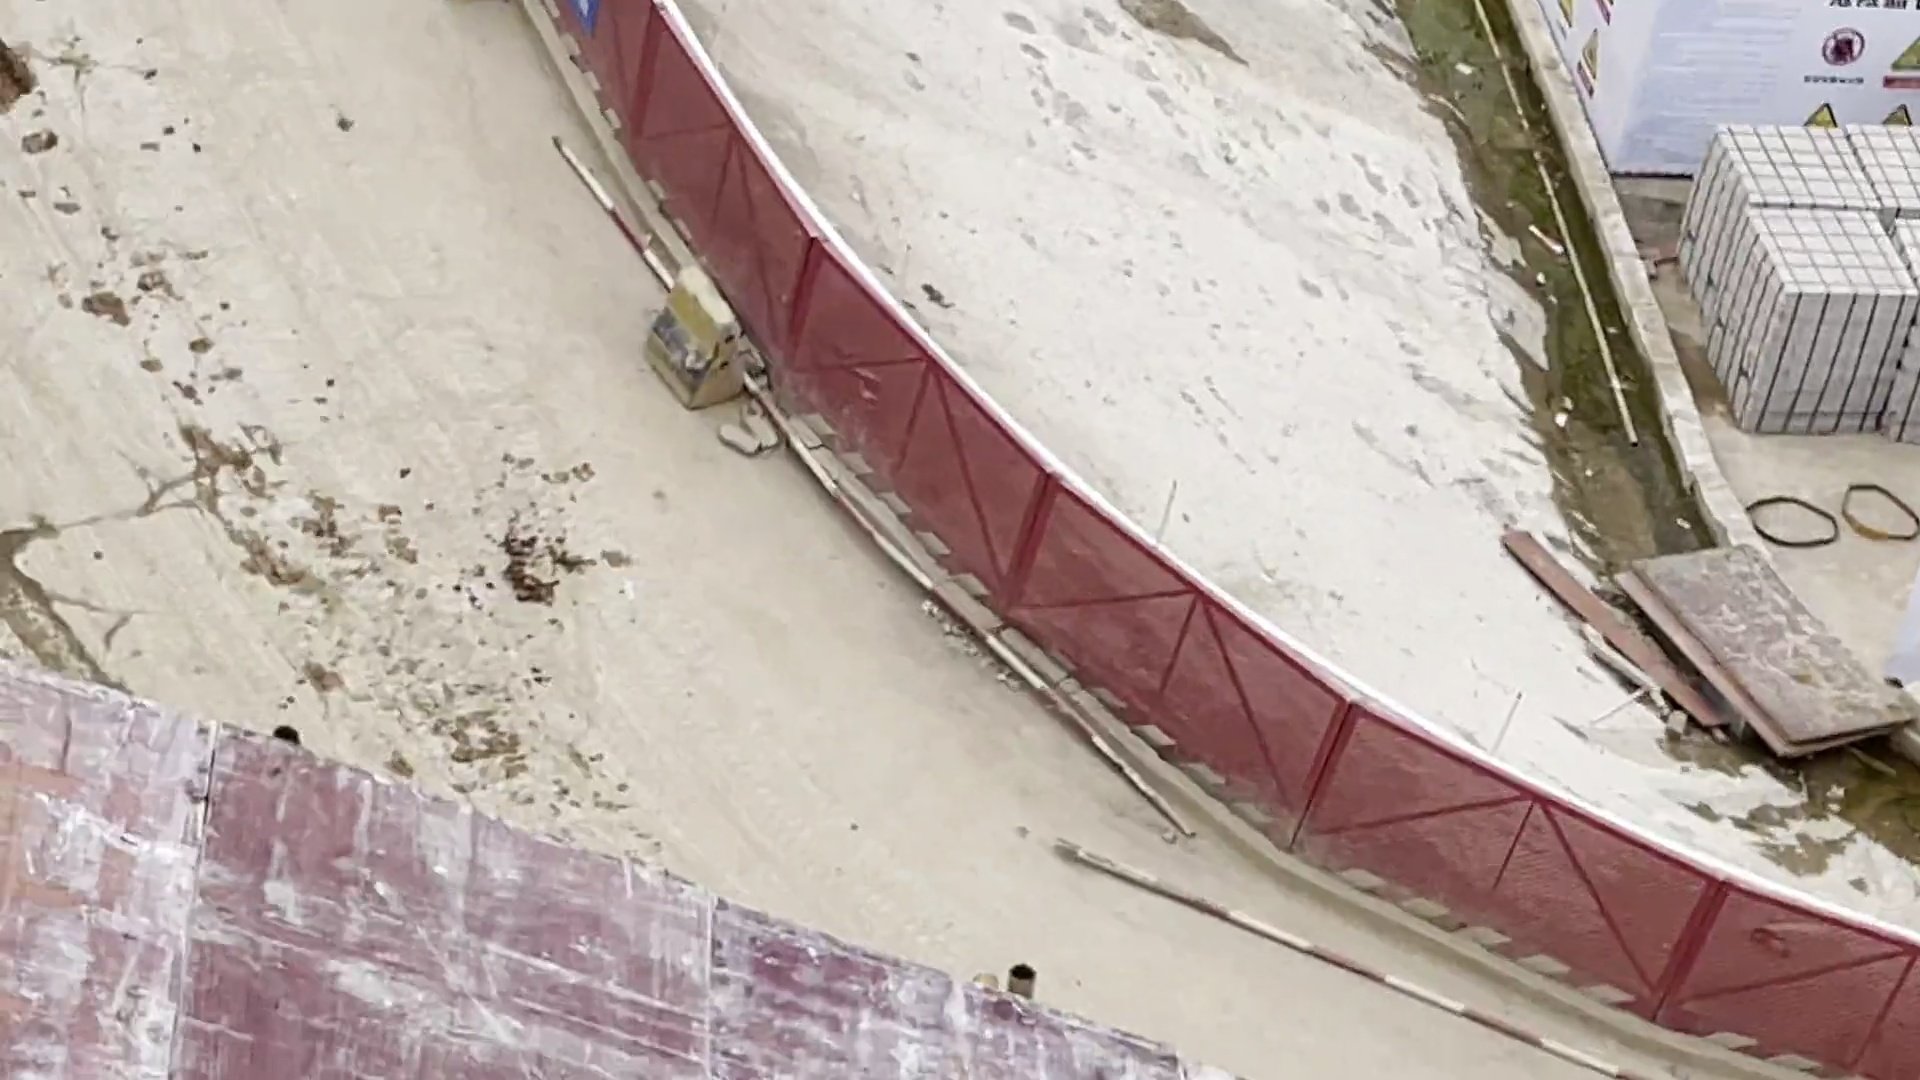board: (1607, 524, 1920, 770)
brick: (1671, 109, 1920, 458)
fence: (520, 1, 1048, 621), (1018, 462, 1481, 938), (1456, 749, 1920, 1080)
slogan: (1526, 1, 1920, 171)
